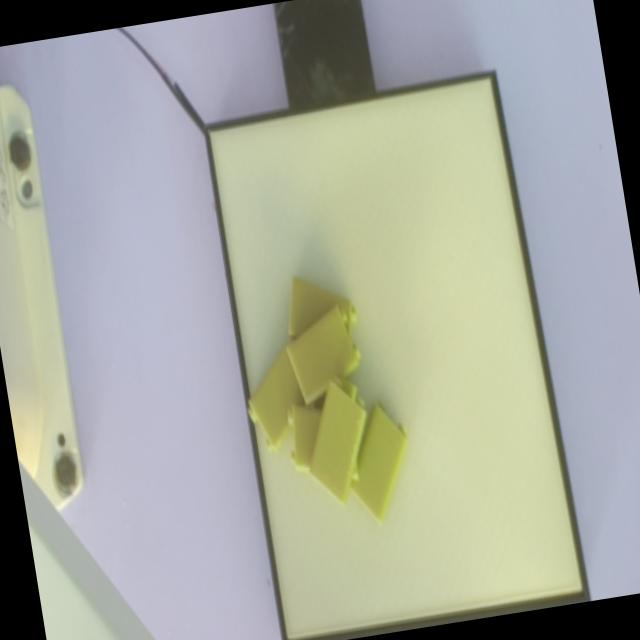bateria: (309, 373, 367, 505)
mesa: (202, 70, 590, 640)
